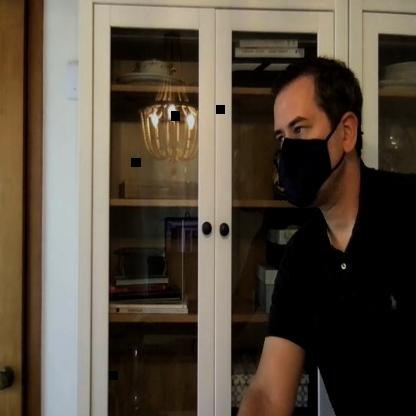mask: (272, 57, 364, 208)
